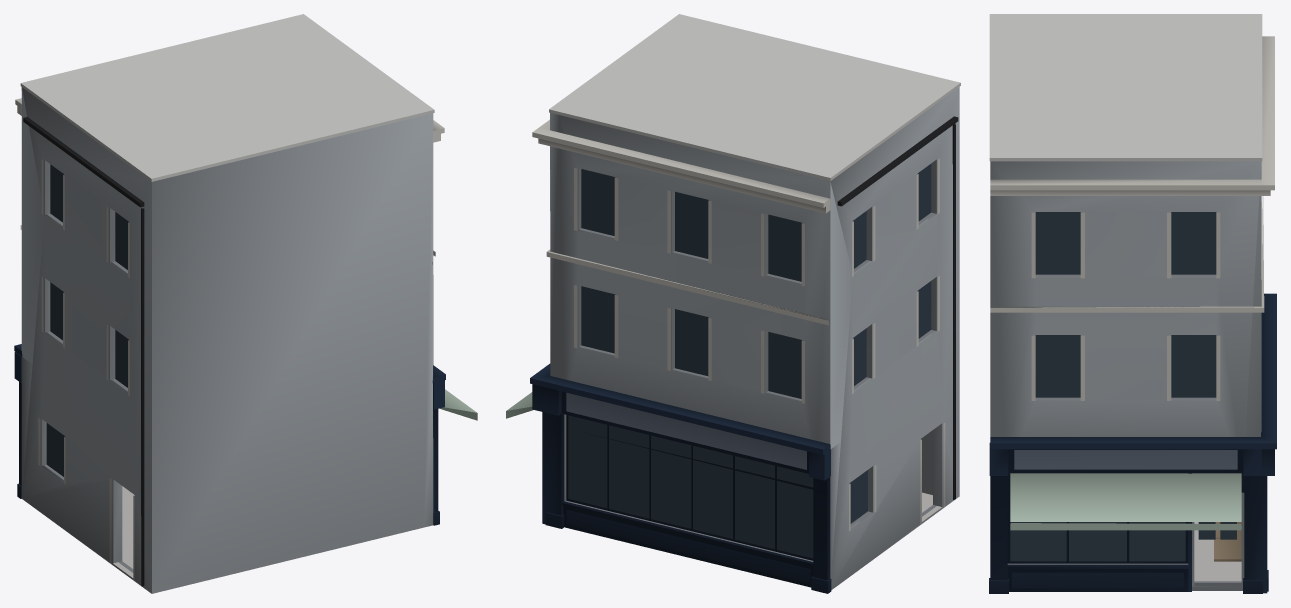
Rendered from corner-shop_lod1.glb.
The picture shows the model from 3 angles, left to right: view 1: azimuth 30°, elevation 25°; view 2: azimuth 150°, elevation 25°; view 3: azimuth 270°, elevation 25°; orthographic projection. The views are drawn at different scales.
Parts seen in each view (by area): view 1: corner-shop_lod1; view 2: corner-shop_lod1; view 3: corner-shop_lod1.
Part boxes in pixels (x1,y1,x2,y2): corner-shop_lod1: (14,14,477,593); corner-shop_lod1: (506,14,960,593); corner-shop_lod1: (989,14,1276,593).
Bounding box in the file's own units: 9.06 × 10.58 × 6.37.
